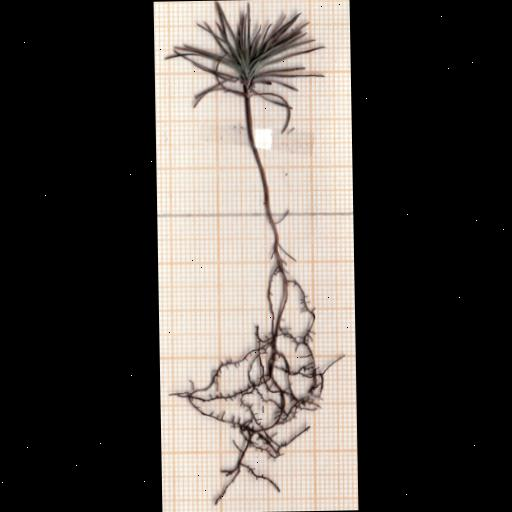flowerCedr: (166, 1, 325, 132)
rootCedr: (178, 257, 345, 503)
stemCedr: (246, 96, 281, 265)
